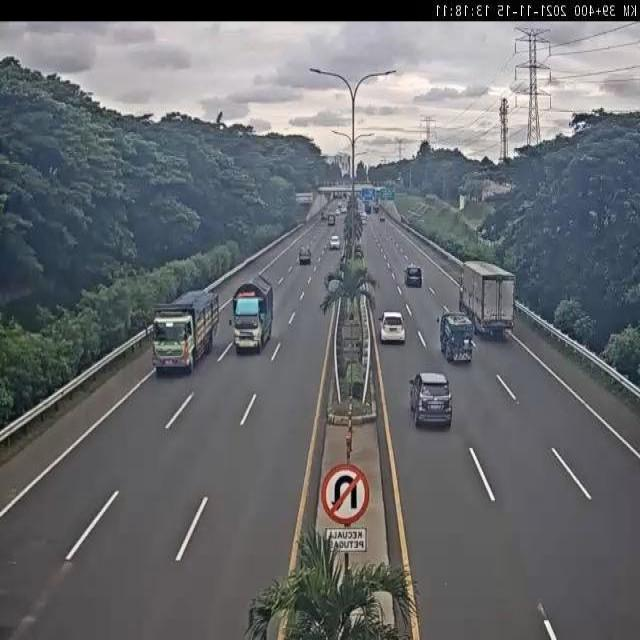Car: (409, 372, 454, 426), (378, 313, 406, 346), (404, 264, 423, 289), (328, 232, 342, 252)
Truck: (149, 290, 220, 377), (458, 261, 516, 338), (230, 275, 274, 354), (437, 311, 474, 364)
